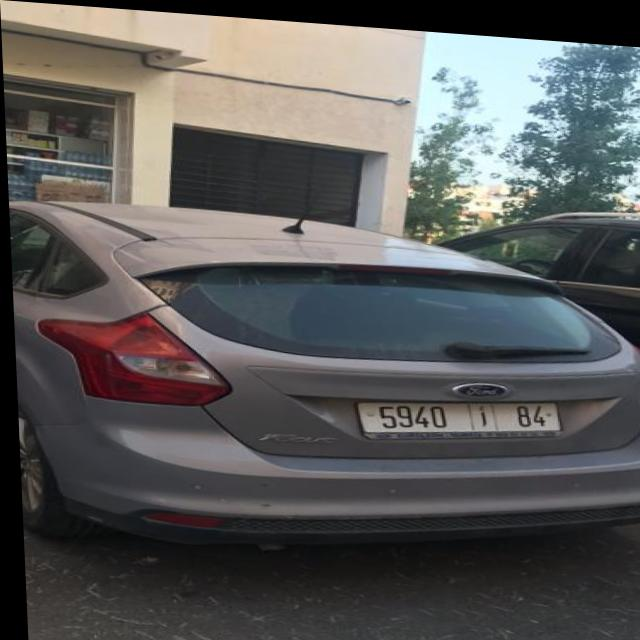License-Plate: (353, 396, 558, 433)
